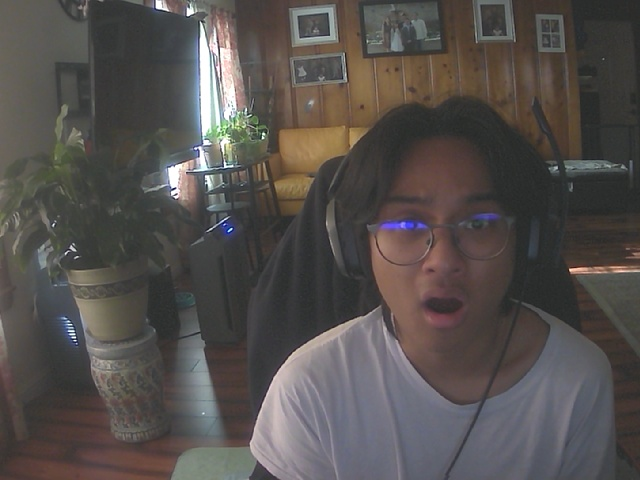fear: (369, 131, 522, 354)
